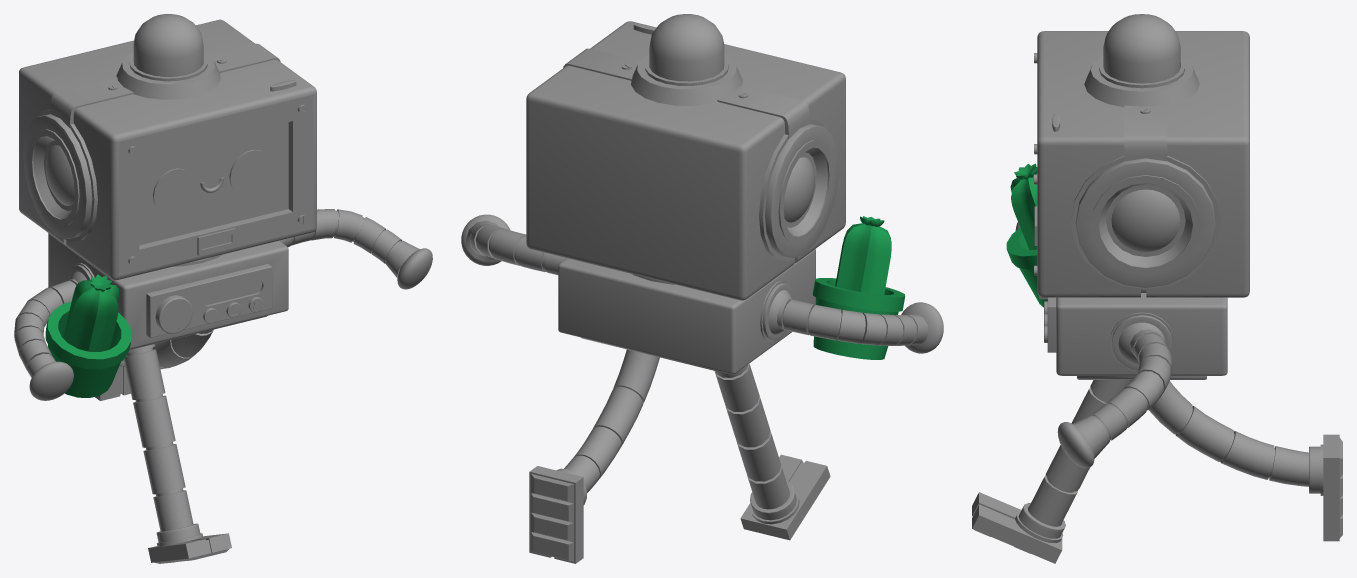
The model's file is FerGarcia_Robot.fbx.
3 views of the same model, side by side, from view 1: azimuth 30°, elevation 25°; view 2: azimuth 150°, elevation 25°; view 3: azimuth 270°, elevation 25° (orthographic). The views are drawn at different scales.
Visible parts, largest first — view 1: Robot, Maceta_Cactus; view 2: Robot, Maceta_Cactus; view 3: Robot, Maceta_Cactus.
Part boxes in pixels (x1,y1,x2,y2): Robot: [14, 14, 432, 563]; Maceta_Cactus: [45, 274, 131, 397]; Robot: [461, 14, 943, 563]; Maceta_Cactus: [812, 216, 905, 359]; Robot: [972, 14, 1342, 563]; Maceta_Cactus: [1006, 163, 1047, 307].
Size of the model in its own units: 210 by 238 by 144.
